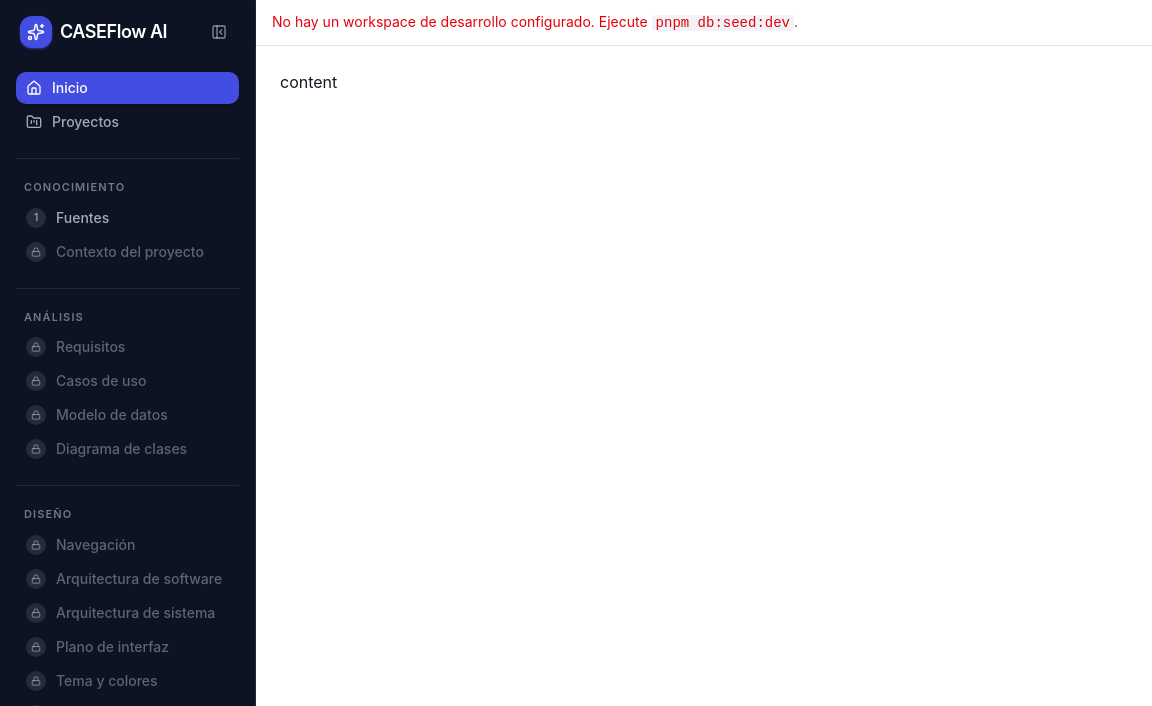
Test: AppShell sidebar folding › folds into an icon rail, keeps labels for screen readers and remembers it
Click the button named "Plegar menú" at (219, 32), box [203,16,235,48]
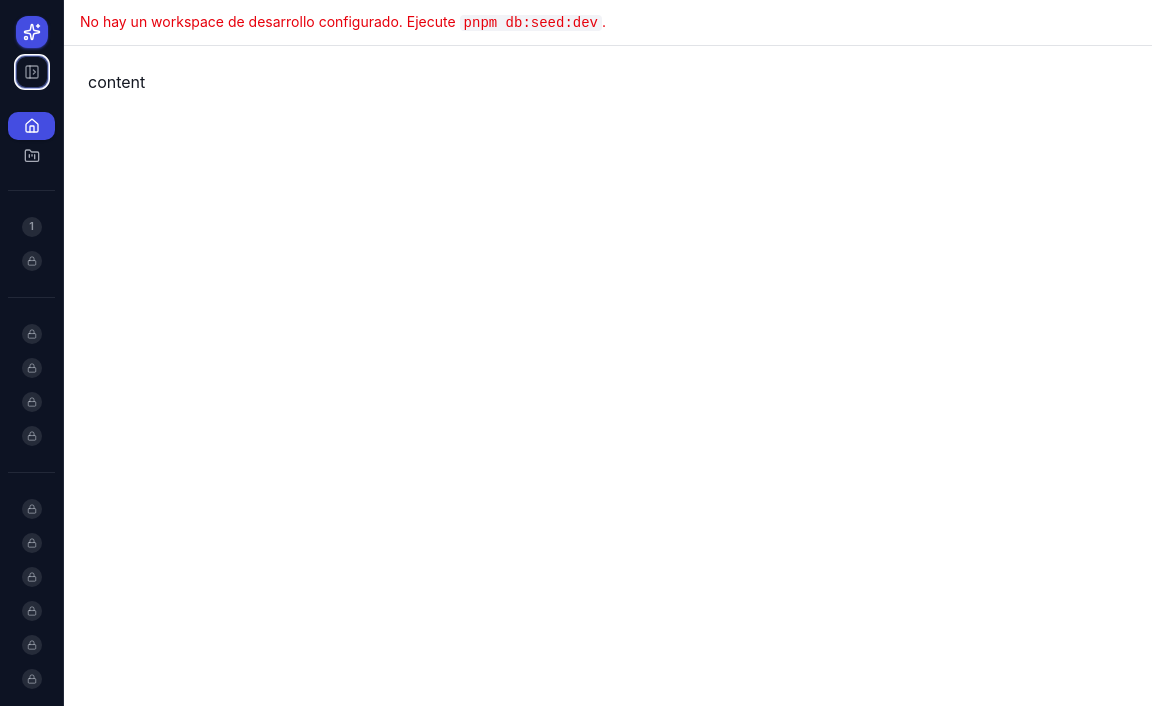
Expected: the button named "Expandir menú" is collapsed, [16,56,48,88]
